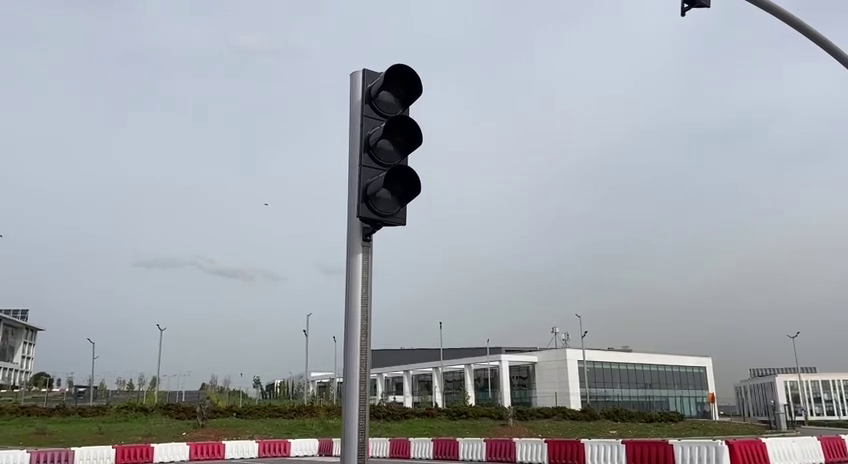trafficLight: (346, 61, 426, 236)
